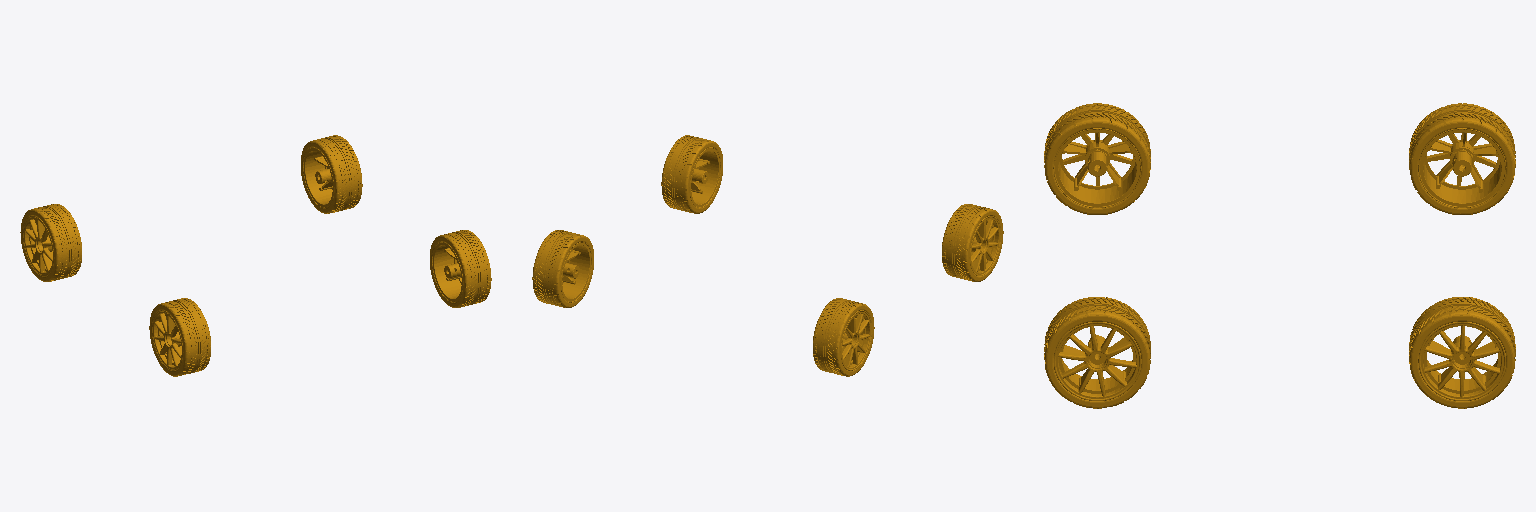
URDF robot description (wally):
<?xml	version="1.0"?>
<robot name="wally">
  <link name="base_link">
    <inertial>
      <origin xyz="-0.0083636 0.0065553 0.033694" rpy="0 0 0" />
      <mass value="1.4521" />
      <inertia ixx="0.0040255" ixy="-2.6373E-06" ixz="6.2085E-08" iyy="0.0046487" iyz="-1.1645E-06" izz="0.0086266" />
    </inertial>
    <visual>
      <origin xyz="0 0 0" rpy="0 0 0" />
      <geometry>
	<mesh filename="package://wally_description/meshes/base_link.STL" />
      </geometry>
      <material name="base">
	<color rgba="0.8 0.8 0.8 1" />
      </material>
    </visual>
    <collision>
      <origin xyz="0 0 0" rpy="0 0 0" />
      <geometry>
	<mesh filename="package://wally_description/meshes/base_link.STL" />
      </geometry>
    </collision>
  </link>
  <link name="motor_A">
    <inertial>
      <origin xyz="-4.1573E-07 -6.9339E-08 0.0137" rpy="0 0 0" />
      <mass value="0.047845" />
      <inertia ixx="1.9654E-05" ixy="9.7041E-10" ixz="-1.1174E-11" iyy="1.9654E-05" iyz="1.3746E-10" izz="3.4083E-05" />
    </inertial>
    <visual>
      <origin xyz="0 0 0" rpy="0 0 0" />
      <geometry>
	<mesh filename="package://wally_description/meshes/motor_A.STL" />
      </geometry>
      <material name="motorA">
	<color rgba="0.77647 0.55686 0.10588 1" />
      </material>
    </visual>
    <collision>
      <origin xyz="0 0 0" rpy="0 0 0" />
      <geometry>
	<mesh filename="package://wally_description/meshes/motor_A.STL" />
      </geometry>
    </collision>
  </link>
  <joint name="joint_A" type="continuous">
    <origin xyz="-0.1269 -0.11168 -0.021875" rpy="-1.5708 0.51523 1.5708" />
    <parent link="base_link" />
    <child link="motor_A" />
    <axis xyz="0 0 1" />
  </joint>
  <link name="motor_B">
    <inertial>
      <origin xyz="-4.1576E-07 -6.9176E-08 0.0137" rpy="0 0 0" />
      <mass value="0.047845" />
      <inertia ixx="1.9654E-05" ixy="9.7024E-10" ixz="-1.128E-11" iyy="1.9654E-05" iyz="1.3737E-10" izz="3.4083E-05" />
    </inertial>
    <visual>
      <origin xyz="0 0 0" rpy="0 0 0" />
      <geometry>
	<mesh filename="package://wally_description/meshes/motor_B.STL" />
      </geometry>
      <material name="motorB">
	<color rgba="0.77647 0.55686 0.10588 1" />
      </material>
    </visual>
    <collision>
      <origin xyz="0 0 0" rpy="0 0 0" />
      <geometry>
	<mesh filename="package://wally_description/meshes/motor_B.STL" />
      </geometry>
    </collision>
  </link>
  <joint name="joint_B" type="continuous">
    <origin xyz="0.1269 -0.11168 -0.021875" rpy="-1.5708 -0.57038 -1.5708" />
    <parent link="base_link" />
    <child link="motor_B" />
    <axis xyz="0 0 1" />
  </joint>
  <link name="motor_C">
    <inertial>
      <origin xyz="4.1469E-07 6.8439E-08 0.0137" rpy="0 0 0" />
      <mass value="0.047845" />
      <inertia ixx="1.9654E-05" ixy="9.7024E-10" ixz="1.0734E-11" iyy="1.9654E-05" iyz="-1.38E-10" izz="3.4083E-05" />
    </inertial>
    <visual>
      <origin xyz="0 0 0" rpy="0 0 0" />
      <geometry>
	<mesh filename="package://wally_description/meshes/motor_C.STL" />
      </geometry>
      <material name="motorC">
	<color rgba="0.77647 0.55686 0.10588 1" />
      </material>
    </visual>
    <collision>
      <origin xyz="0 0 0" rpy="0 0 0" />
      <geometry>
	<mesh filename="package://wally_description/meshes/motor_C.STL" />
      </geometry>
    </collision>
  </link>
  <joint name="joint_C" type="continuous">
    <origin xyz="0.1269 0.11168 -0.021875" rpy="1.5708 -0.50447 1.5708" />
    <parent link="base_link" />
    <child link="motor_C" />
    <axis xyz="0 0 1" />
  </joint>
  <link name="motor_D">
    <inertial>
      <origin xyz="4.1418E-07 6.8329E-08 0.0137" rpy="0 0 0" />
      <mass value="0.047845" />
      <inertia ixx="1.9654E-05" ixy="9.7033E-10" ixz="1.0826E-11" iyy="1.9654E-05" iyz="-1.3801E-10" izz="3.4083E-05" />
    </inertial>
    <visual>
      <origin xyz="0 0 0" rpy="0 0 0" />
      <geometry>
	<mesh filename="package://wally_description/meshes/motor_D.STL" />
      </geometry>
      <material name="motorD">
	<color rgba="0.77647 0.55686 0.10588 1" />
      </material>
    </visual>
    <collision>
      <origin xyz="0 0 0" rpy="0 0 0" />
      <geometry>
	<mesh filename="package://wally_description/meshes/motor_D.STL" />
      </geometry>
    </collision>
  </link>
  <joint name="joint_D" type="continuous">
    <origin xyz="-0.1269 0.11168 -0.021875" rpy="1.5708 -0.62108 -1.5708" />
    <parent link="base_link" />
    <child link="motor_D" />
    <axis xyz="0 0 1" />
  </joint>
  <link name="ZED">
    <inertial>
      <origin xyz="2.2764E-08 -2.8942E-06 0.015659" rpy="0 0 0" />
      <mass value="0.14788" />
      <inertia ixx="2.1445E-05" ixy="2.4719E-11" ixz="-1.7198E-11" iyy="0.00036611" iyz="-7.0654E-09" izz="0.00036349" />
    </inertial>
    <visual>
      <origin xyz="0 0 0" rpy="0 0 0" />
      <geometry>
	<mesh filename="package://wally_description/meshes/ZED.STL" />
      </geometry>
      <material name="">
	<color rgba="0.89804 0.91373 0.92549 1" />
      </material>
    </visual>
    <collision>
      <origin xyz="0 0 0" rpy="0 0 0" />
      <geometry>
	<mesh filename="package://wally_description/meshes/ZED.STL" />
      </geometry>
    </collision>
  </link>
  <joint name="camera" type="fixed">
    <origin xyz="0 -0.0736 0.076488" rpy="1.5708 0 0" />
    <parent link="base_link" />
    <child link="ZED" />
    <axis xyz="0 0 0" />
  </joint>
  <link name="RP_LIDAR">
    <inertial>
      <origin xyz="0 0 0" rpy="0 0 0" />
      <mass value="1e-5" />
      <inertia ixx="1e-6" ixy="0" ixz="0" iyy="1e-6" iyz="0" izz="1e-6" />
    </inertial>
    <visual>
      <origin xyz="0 0 -0.037" rpy="1.5708 0 3.14159" />
      <geometry>
	<mesh filename="package://wally_description/meshes/rp_lidarA1.stl" scale="0.01 0.01 0.01"/>
      </geometry>
      <material name="lidar">
	<color rgba="0.75294 0.75294 0.75294 1" />
      </material>
    </visual>
    <collision>
      <origin xyz="0 0 0" rpy="0 0 0" />
      <geometry>
	<mesh filename="package://wally_description/meshes/rp_lidarA1.stl" scale="0.01 0.01 0.01"/>
      </geometry>
    </collision>
  </link>
  <joint name="lidar" type="fixed">
    <origin xyz="0 0 0.158" rpy="0 0 -1.5708" />
    <parent link="base_link" />
    <child link="RP_LIDAR" />
    <axis xyz="0 1 0" />
  </joint>
</robot>

--- Facts derived from the render (not from the file) ---
Views: 3 orthographic renders of the robot side by side, from view 1: azimuth 30°, elevation 25°; view 2: azimuth 150°, elevation 25°; view 3: azimuth 270°, elevation 25°.
Model wally with 7 links and 6 joints (4 continuous, 2 fixed), rooted at base_link, posed every joint at zero.
Visible links, largest first — view 1: motor_C, motor_A, motor_B, motor_D; view 2: motor_B, motor_D, motor_A, motor_C; view 3: motor_D, motor_A, motor_C, motor_B.
Link boxes in pixels (x1=…): motor_C: x1=301, y1=135, x2=362, y2=213; motor_A: x1=149, y1=298, x2=210, y2=376; motor_B: x1=430, y1=230, x2=491, y2=307; motor_D: x1=20, y1=204, x2=81, y2=281; motor_B: x1=661, y1=135, x2=722, y2=213; motor_D: x1=813, y1=298, x2=874, y2=376; motor_A: x1=942, y1=204, x2=1003, y2=281; motor_C: x1=532, y1=230, x2=593, y2=307; motor_D: x1=1409, y1=103, x2=1515, y2=214; motor_A: x1=1044, y1=103, x2=1150, y2=214; motor_C: x1=1409, y1=297, x2=1515, y2=408; motor_B: x1=1044, y1=297, x2=1150, y2=408.
Size in the robot's own frame: 0.3062 by 0.2884 by 0.065 metres.
4 mesh visuals loaded from 7 distinct referenced files (4 binary STL); not drawn: 3 (reference not matched to a file when rendering).
